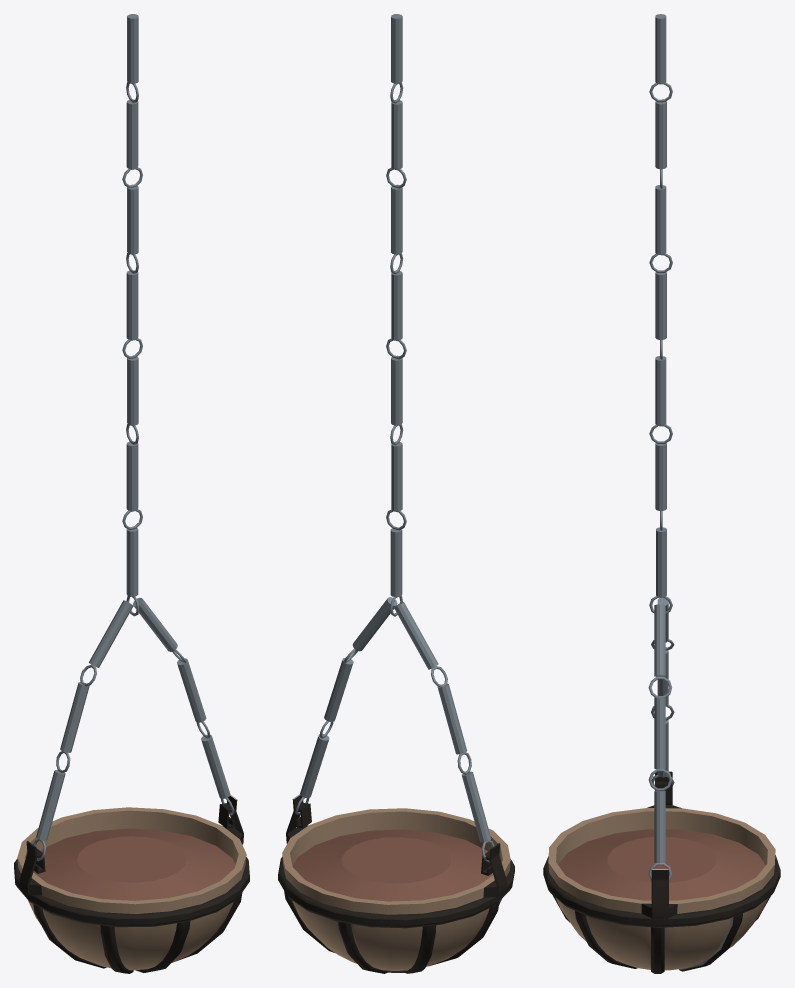
The model's file is Short Basket.fbx.
The picture shows the model from 3 angles, left to right: view 1: azimuth 30°, elevation 25°; view 2: azimuth 150°, elevation 25°; view 3: azimuth 270°, elevation 25°; orthographic projection.
Visible parts, largest first — view 1: pCylinder35, pCylinder65, pCylinder62, pCylinder63, pCylinder64; view 2: pCylinder35, pCylinder65, pCylinder62, pCylinder64, pCylinder63; view 3: pCylinder35, pCylinder65, pCylinder62, pCylinder64, pCylinder63.
Boxes of the visible parts, x1,y1,x2,y2 form: pCylinder35: (14, 794, 249, 973); pCylinder65: (33, 527, 234, 861); pCylinder62: (122, 14, 142, 187); pCylinder63: (122, 184, 142, 358); pCylinder64: (122, 356, 142, 529); pCylinder35: (278, 794, 514, 973); pCylinder65: (295, 528, 494, 862); pCylinder62: (386, 14, 406, 188); pCylinder64: (386, 355, 406, 530); pCylinder63: (386, 184, 406, 359); pCylinder35: (543, 771, 780, 973); pCylinder65: (648, 527, 674, 881); pCylinder62: (649, 14, 672, 188); pCylinder64: (649, 356, 672, 530); pCylinder63: (649, 185, 672, 359).
Bounding box in the file's own units: 3.66 × 15.31 × 3.5.
